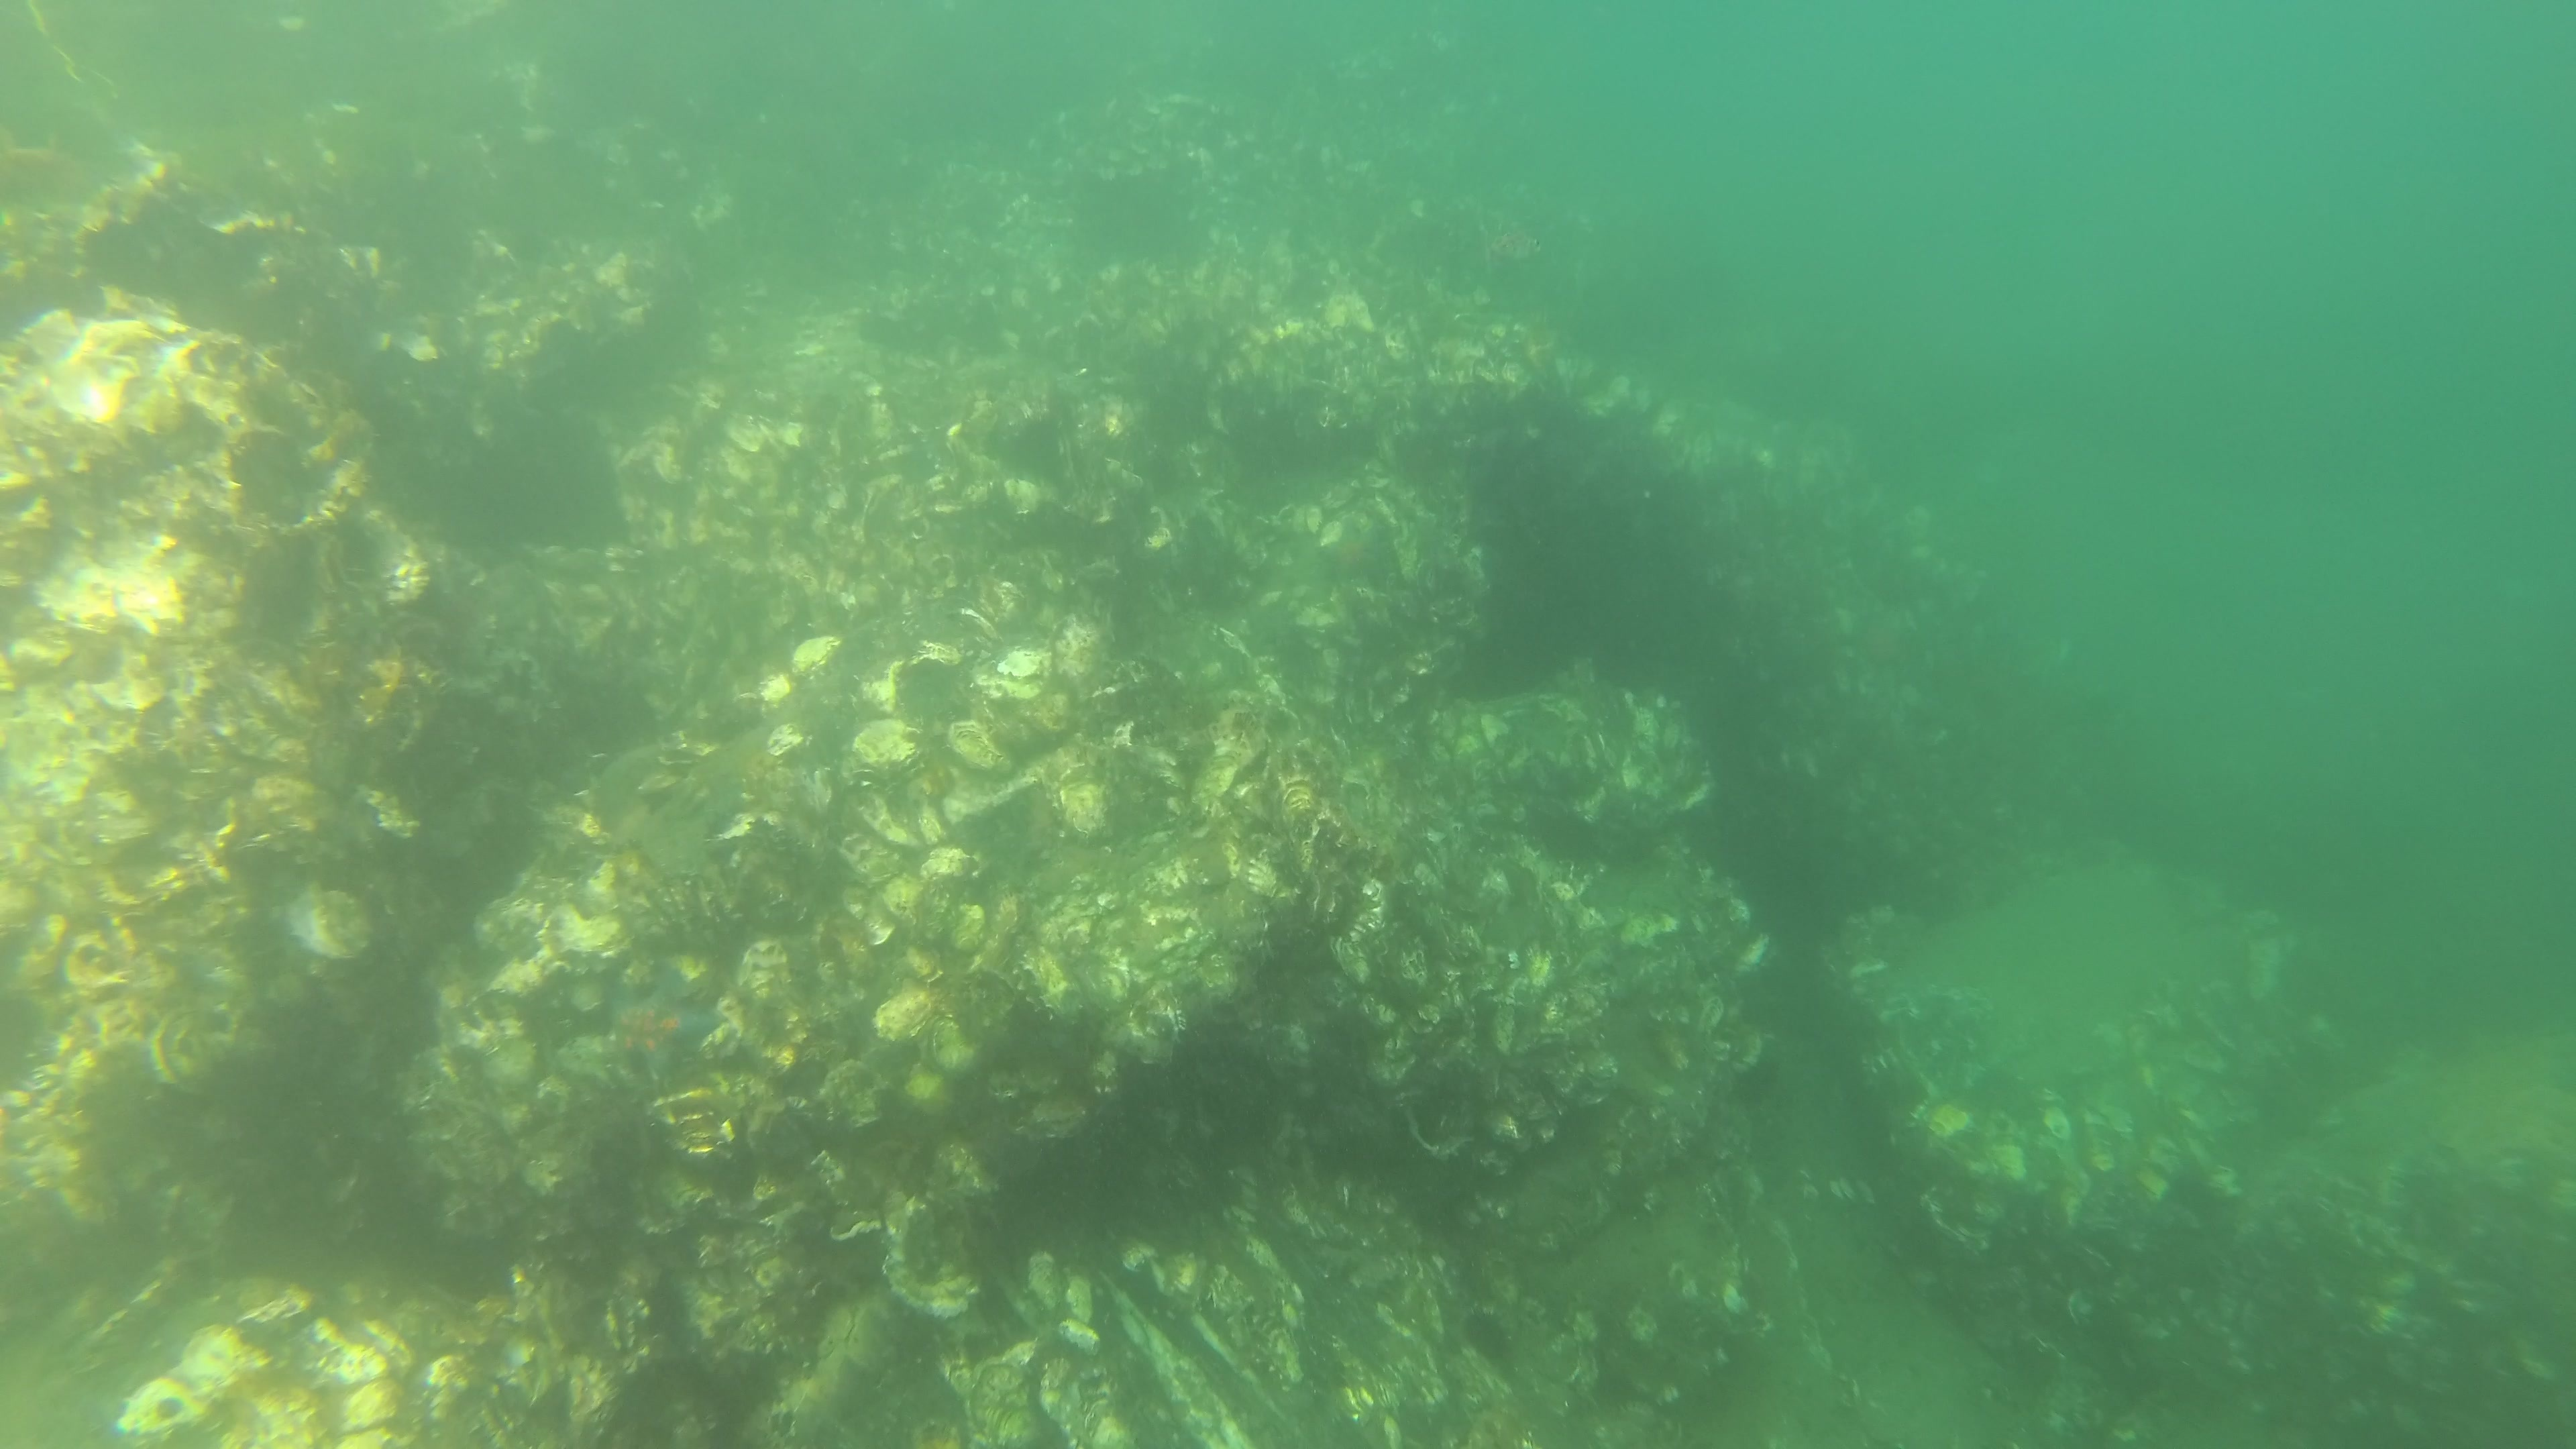echinus: (1529, 801, 1599, 872), (1458, 1307, 1513, 1368)
starfish: (598, 977, 722, 1081), (1316, 524, 1380, 591)
